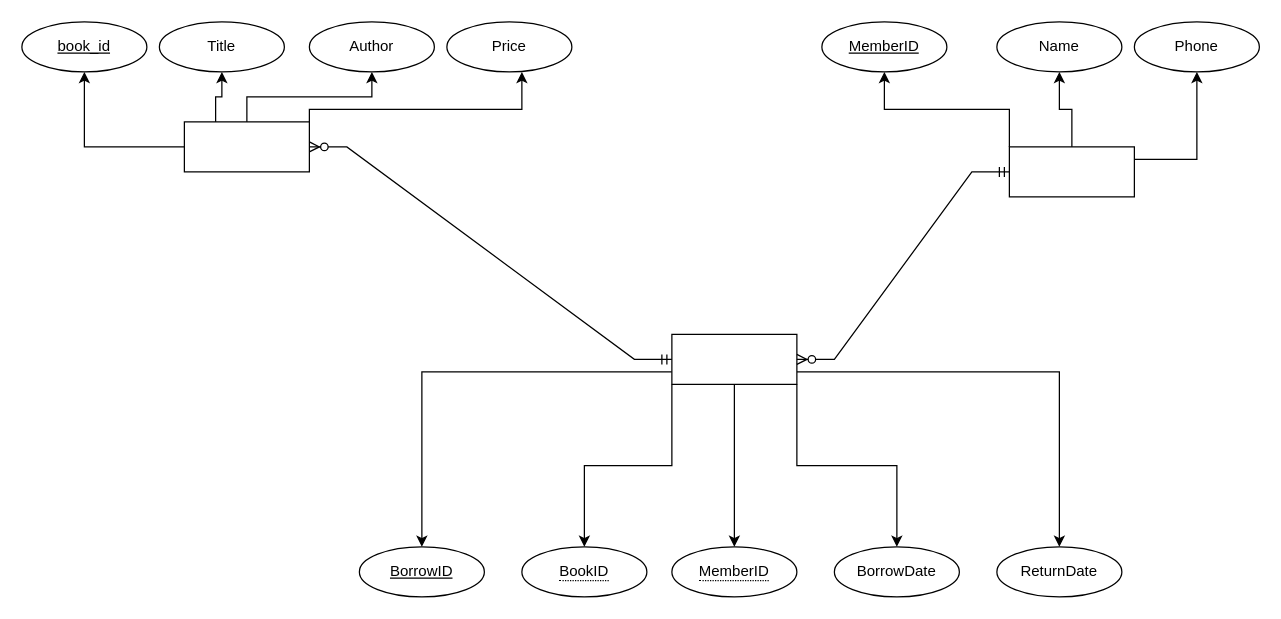
Image size: 1281x619. Some labels were removed from this diagram. Each missing label, with the centre of its shape:
"Books" goes at (x=246, y=146).
"Borrow" goes at (x=734, y=358).
"Members" goes at (x=1071, y=171).
